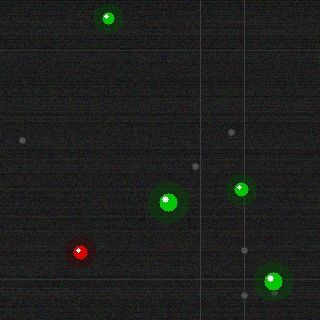green_normal: (157, 191, 179, 213), (262, 270, 284, 292), (232, 180, 250, 198), (100, 10, 116, 26)
red_fault: (71, 243, 89, 261)
